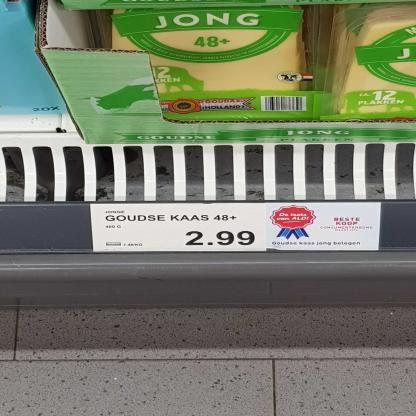prtg: (91, 204, 268, 253)
